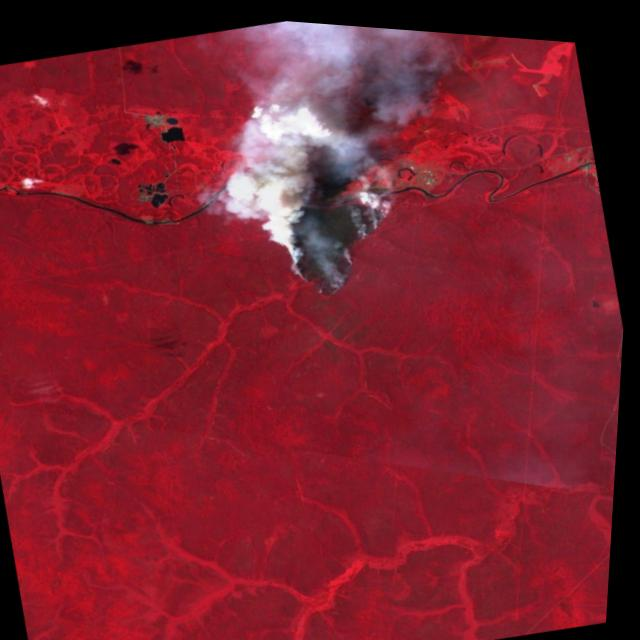fire: (252, 128, 416, 308)
